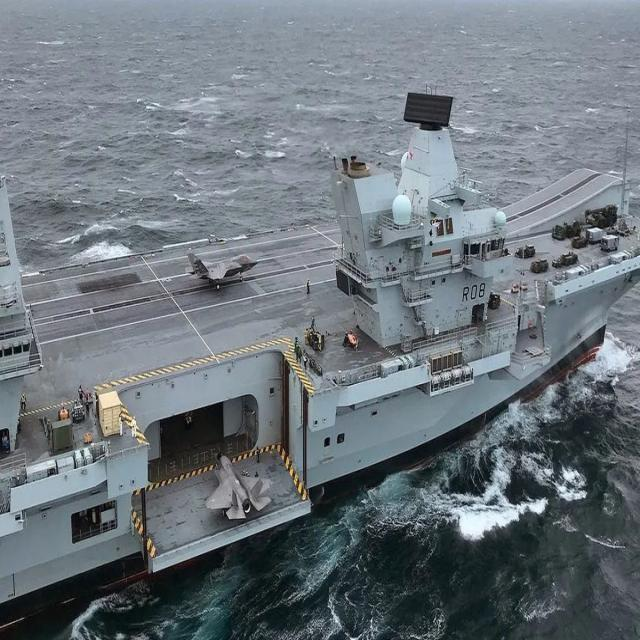MIL_Plane: (205, 452, 272, 520), (186, 252, 257, 290)
